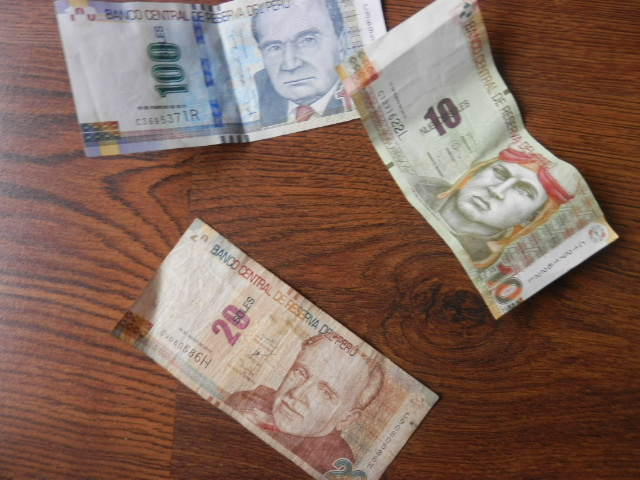B10: (337, 2, 639, 322)
B100: (47, 1, 385, 146)
B20: (113, 219, 449, 480)
